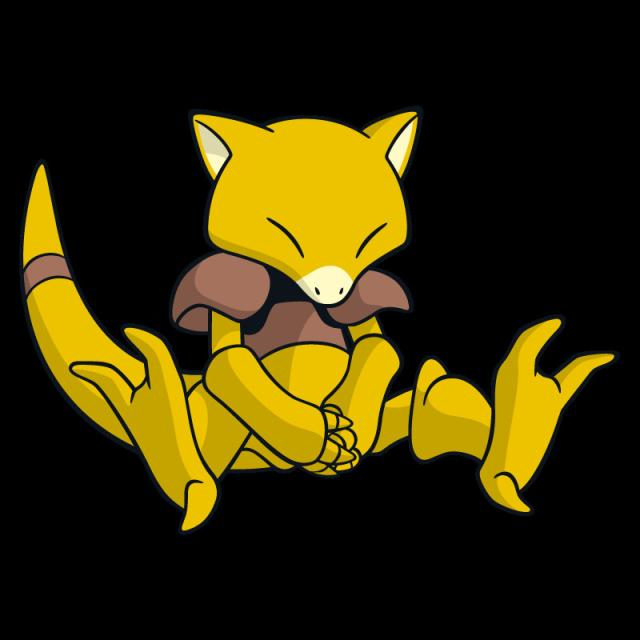Abra: (85, 112, 555, 478)
